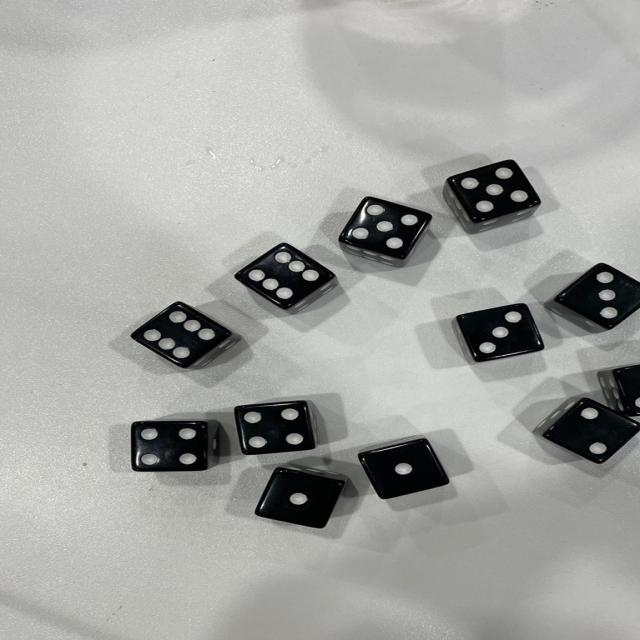DICE1: (274, 472, 345, 528), (372, 441, 447, 488)
DICE2: (538, 394, 630, 463), (613, 356, 640, 416)
DICE3: (571, 245, 640, 325), (464, 296, 540, 368)
DICE4: (127, 416, 218, 469), (238, 401, 329, 453)
DICE5: (302, 183, 443, 269), (442, 142, 558, 216)
DICE6: (99, 286, 243, 391), (233, 225, 336, 328)
